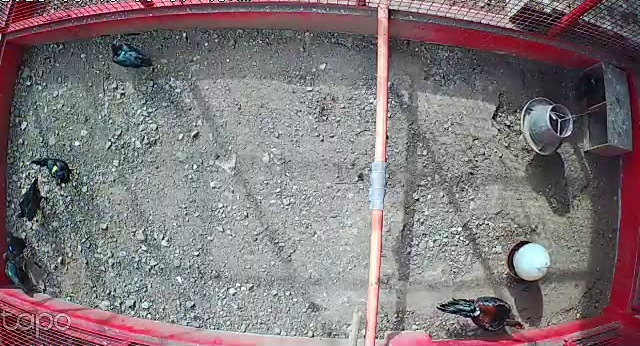Chicken: (13, 171, 58, 220), (104, 38, 157, 74), (28, 153, 79, 188), (1, 258, 44, 299), (4, 231, 35, 261)
Rooster: (435, 291, 529, 333)
Saddle_Color_Blue: (9, 245, 12, 252)
Saddle_Color_Green: (8, 270, 13, 276)
Saddle_Color_Yellow: (51, 166, 58, 173)
